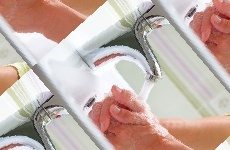washing hand: (66, 17, 229, 149)
